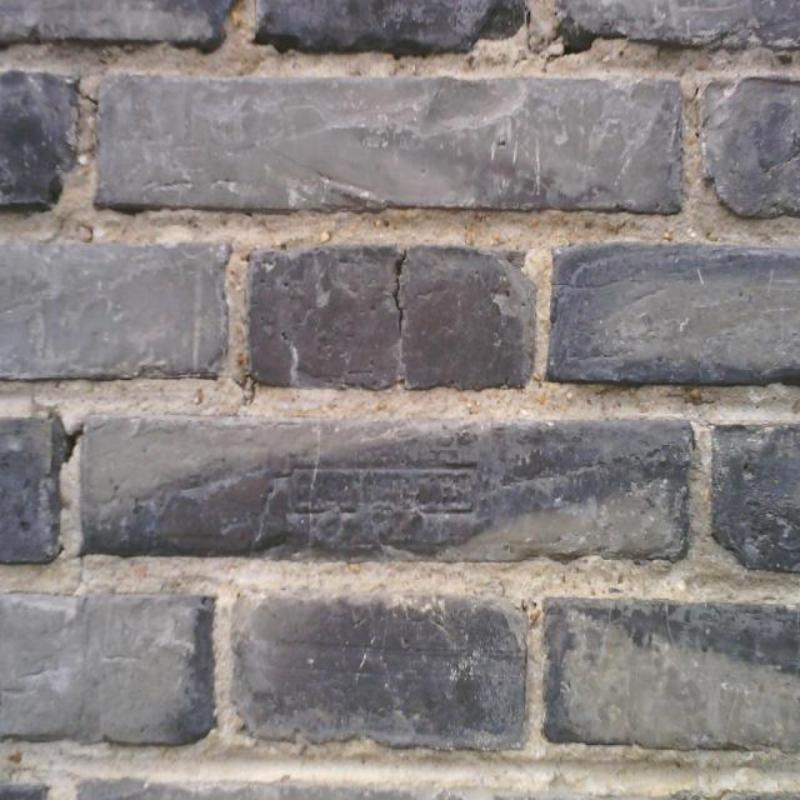pothole: (545, 34, 626, 66), (393, 251, 407, 337), (73, 77, 99, 114), (64, 426, 84, 461)
